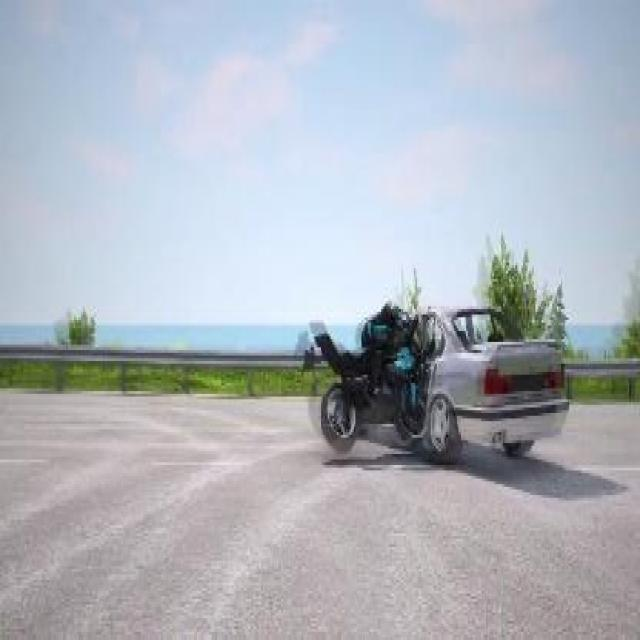accident: (301, 288, 577, 470)
